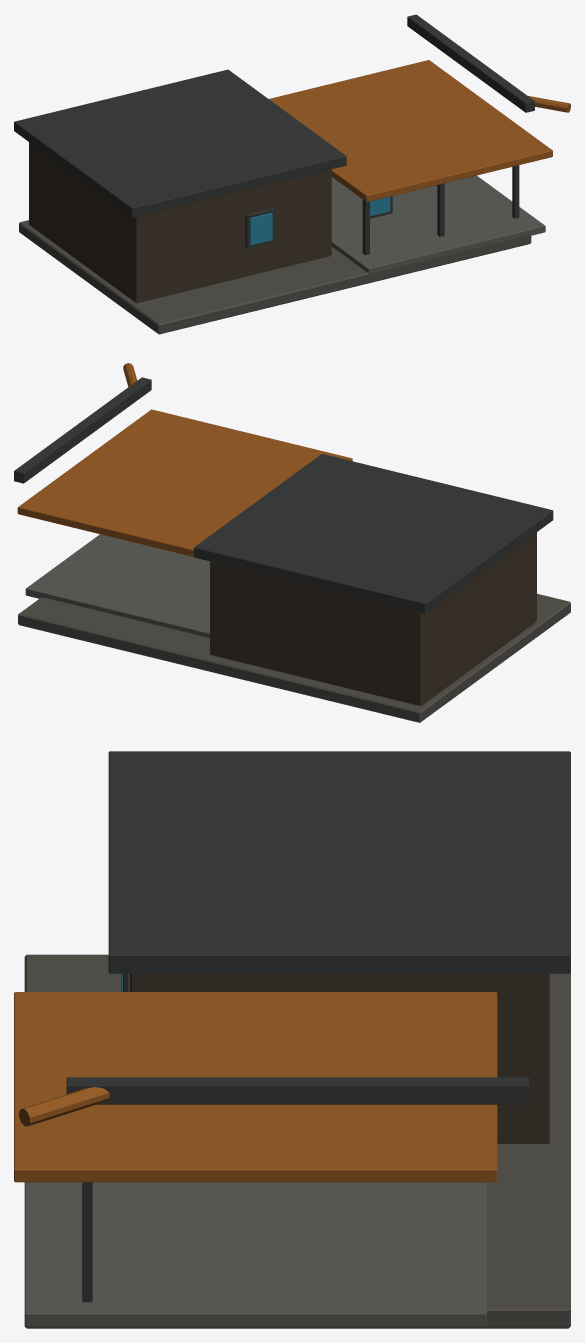
Rendered from BrassLoadingDepot.glb.
The picture shows the model from 3 angles, top to bottom: view 1: azimuth 30°, elevation 25°; view 2: azimuth 150°, elevation 25°; view 3: azimuth 270°, elevation 25°; orthographic projection. The views are drawn at different scales.
Visible parts, largest first — view 1: BrassLoadingDepot; view 2: BrassLoadingDepot; view 3: BrassLoadingDepot.
Part boxes in pixels (<box>): BrassLoadingDepot: <box>14,14,570,334</box>; BrassLoadingDepot: <box>14,363,570,722</box>; BrassLoadingDepot: <box>14,751,570,1328</box>.
Size of the model in its own units: 44.84 by 13.5 by 26.5.
1 material, 1 textured.
